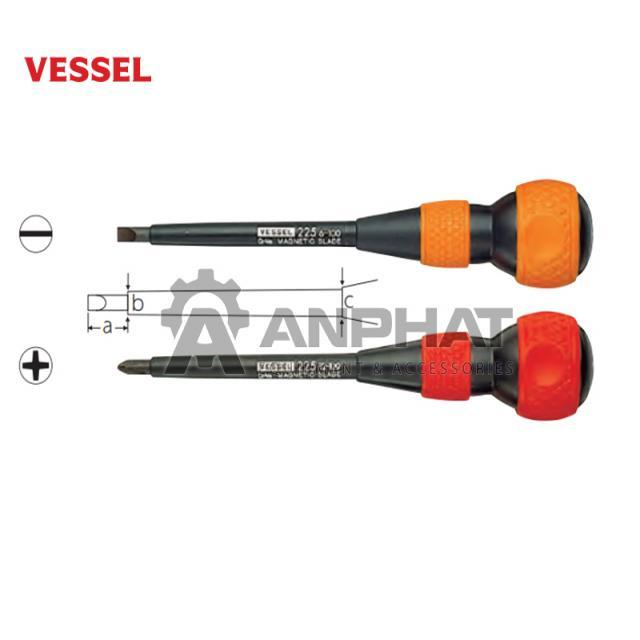screwdriver: (112, 168, 602, 294), (110, 310, 600, 427)
